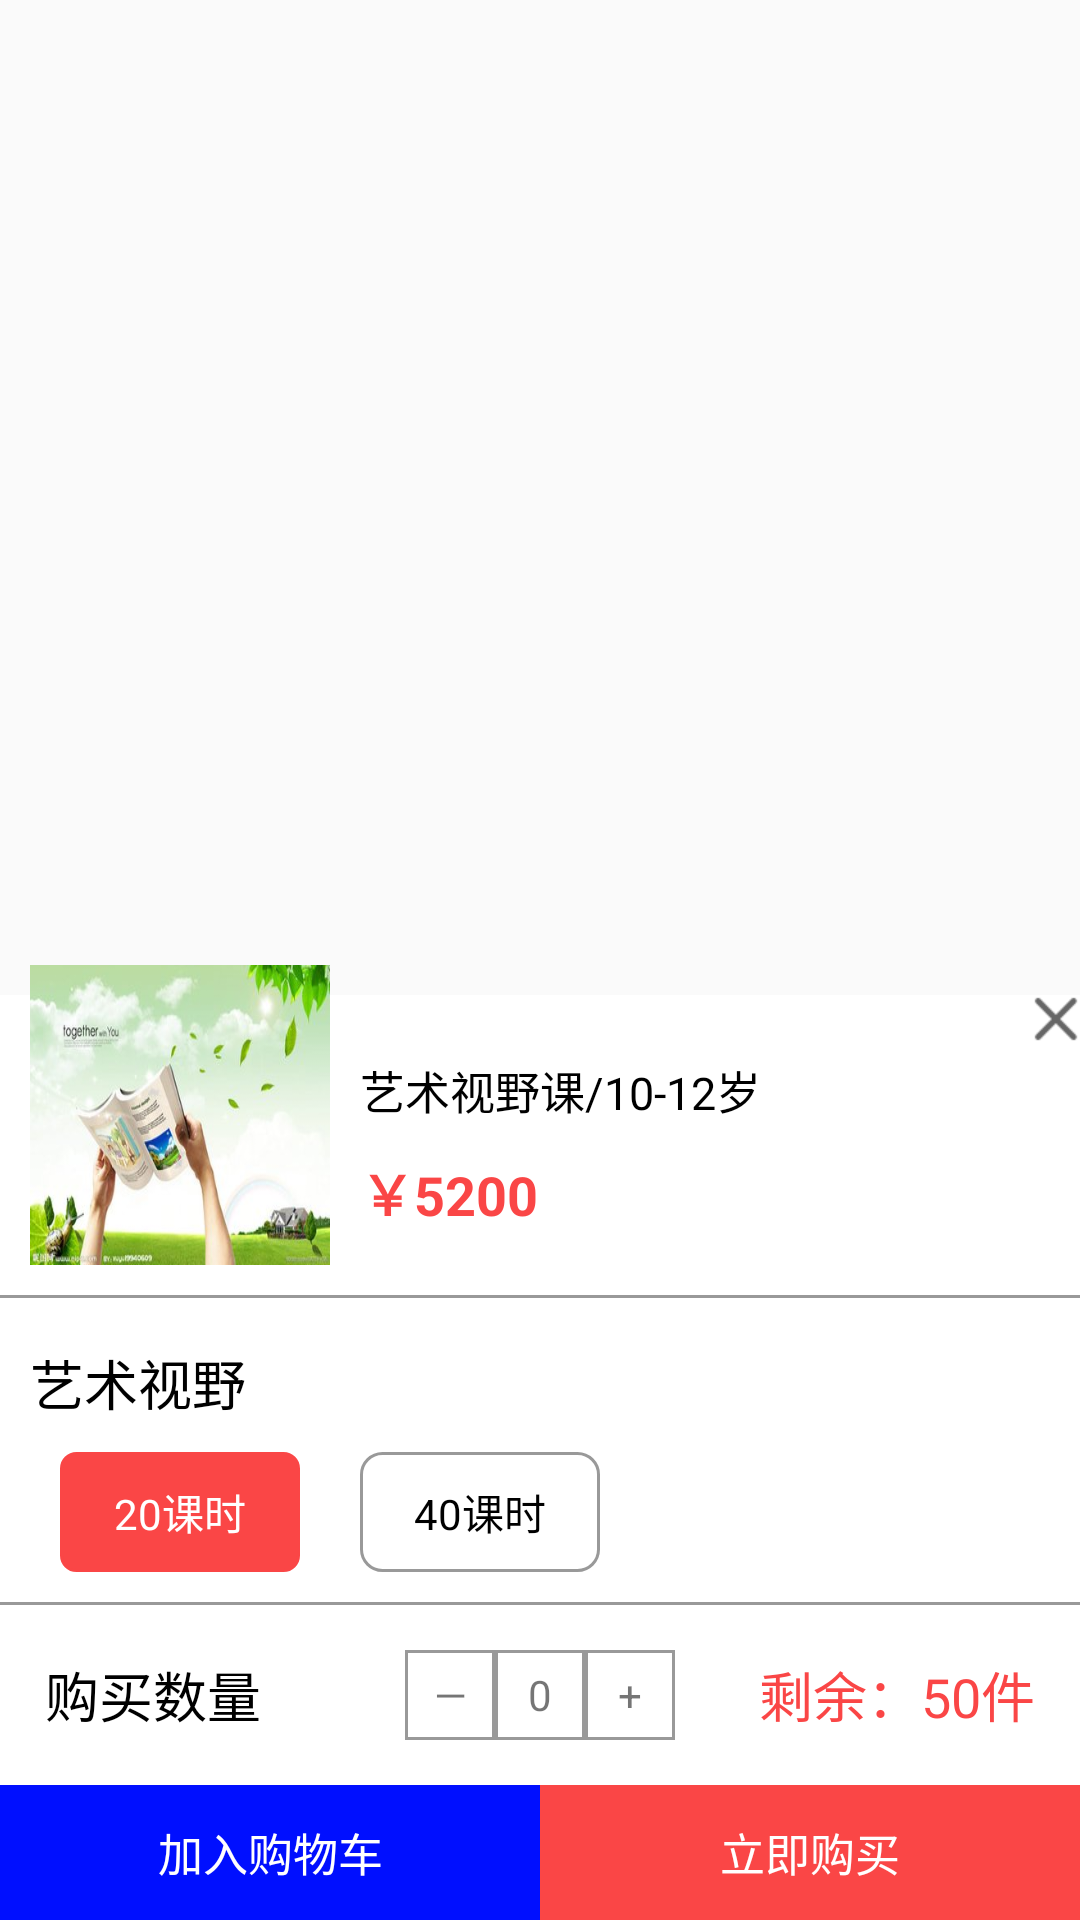

Icon click points for this 1080x1920 phone screenshot, format (x=x, y=y):
close: (x=1056, y=1019)
